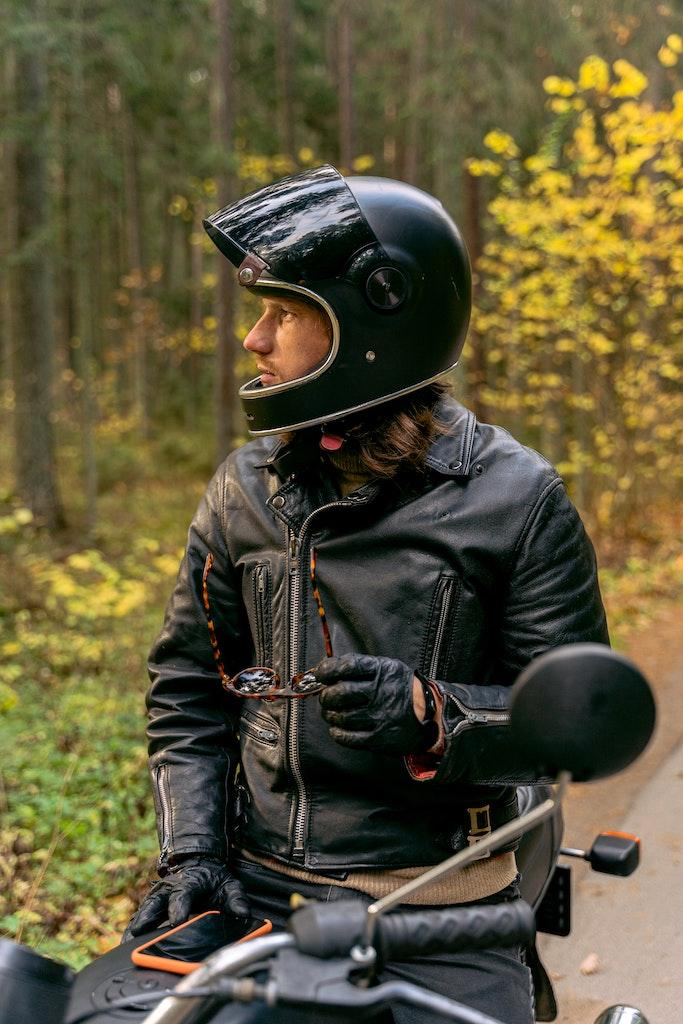helmet: (201, 162, 475, 455)
